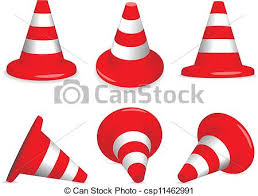cones: (178, 2, 255, 82), (97, 2, 166, 85), (176, 113, 257, 183), (6, 117, 88, 184), (7, 1, 77, 78), (97, 108, 166, 186)
